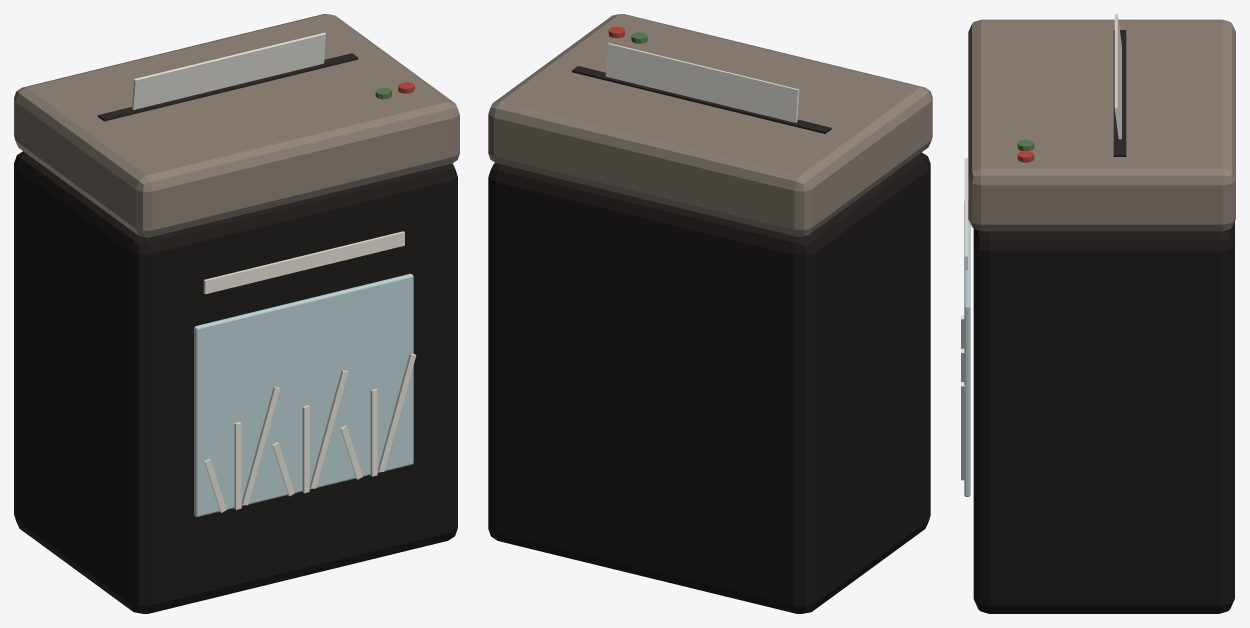
Rendered from hh_cat_shredder.glb.
The picture shows the model from 3 angles, left to right: view 1: azimuth 30°, elevation 25°; view 2: azimuth 150°, elevation 25°; view 3: azimuth 270°, elevation 25°; orthographic projection.
Visible parts, largest first — view 1: shredder_bin, shredder_head, window, paper_sheet, bin_handle_mark, paper_slot, shreds.005, shreds.002, shreds.008, shreds.004, shreds.007, shreds.001; view 2: shredder_bin, shredder_head, paper_sheet, paper_slot; view 3: shredder_bin, shredder_head, window, paper_slot, paper_sheet, bin_handle_mark, shreds.008.
Boxes of the visible parts, bbox=[...] form: shredder_bin: bbox=[14, 151, 457, 613]; shredder_head: bbox=[14, 14, 459, 237]; window: bbox=[194, 273, 413, 516]; paper_sheet: bbox=[132, 32, 325, 109]; bin_handle_mark: bbox=[203, 231, 404, 294]; paper_slot: bbox=[98, 53, 358, 121]; shreds.005: bbox=[309, 370, 348, 488]; shreds.002: bbox=[241, 387, 279, 505]; shreds.008: bbox=[377, 354, 416, 471]; shreds.004: bbox=[302, 405, 309, 493]; shreds.007: bbox=[370, 389, 377, 476]; shreds.001: bbox=[234, 422, 241, 509]; shredder_bin: bbox=[488, 152, 930, 613]; shredder_head: bbox=[488, 14, 932, 236]; paper_sheet: bbox=[605, 43, 799, 122]; paper_slot: bbox=[572, 66, 831, 133]; shredder_bin: bbox=[973, 222, 1234, 613]; shredder_head: bbox=[968, 19, 1235, 231]; window: bbox=[964, 200, 970, 496]; paper_slot: bbox=[1113, 30, 1126, 156]; paper_sheet: bbox=[1114, 14, 1121, 139]; bin_handle_mark: bbox=[964, 158, 967, 269]; shreds.008: bbox=[961, 382, 965, 480].
Size of the model in its own units: 0.36 by 0.5 by 0.26.
